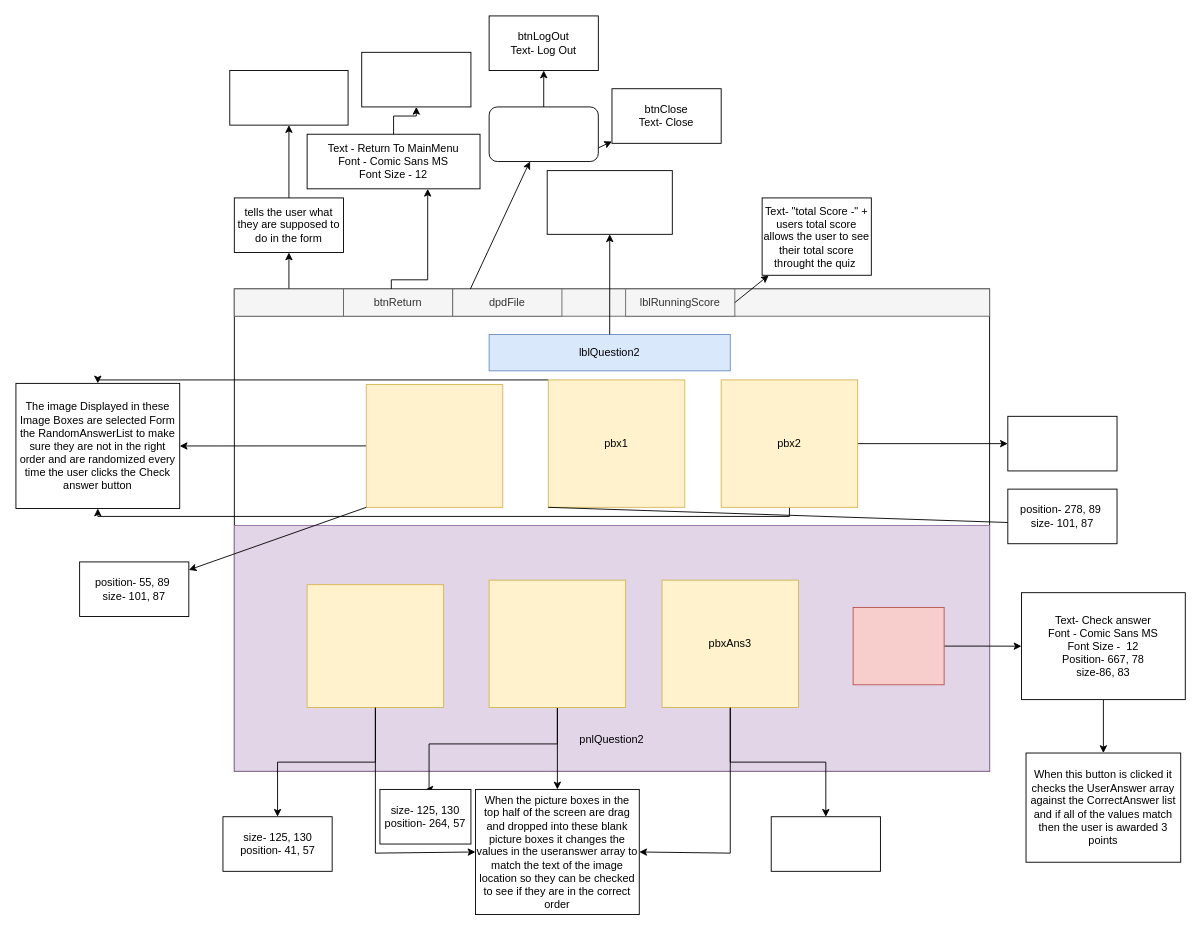
The diagram is 1201 pixels wide and 931 high, and some of its shapes have lost their labels. Each missing label, with the centre of its shape:
brings the user back to the main menu and sets a variable so they can go back: point 416,79
btnCheck: point 898,646
btnHelp: point 288,302
pbx3: point 434,445
pbxAns1: point 375,646
pbxAns2: point 557,643
position- 487, 89 size- 101, 87: point 1062,443
size- 125, 130 position- 478, 57: point 825,843
Text - Changes depending on the question Font- Comic Sans MS Font Size - 20: point 609,202
Text - Help Font - Comic Sans MS Font Size - 12: point 288,97
Text- File contains btnClose and BtnLogOut: point 543,134
